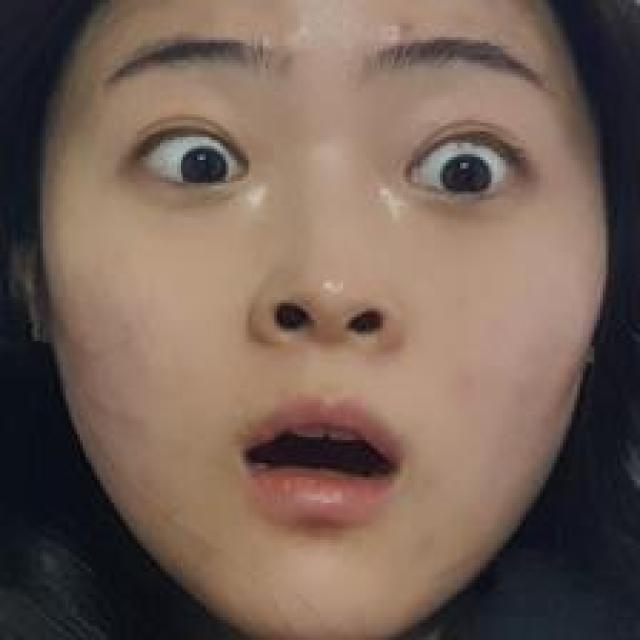fear: (80, 28, 578, 578)
